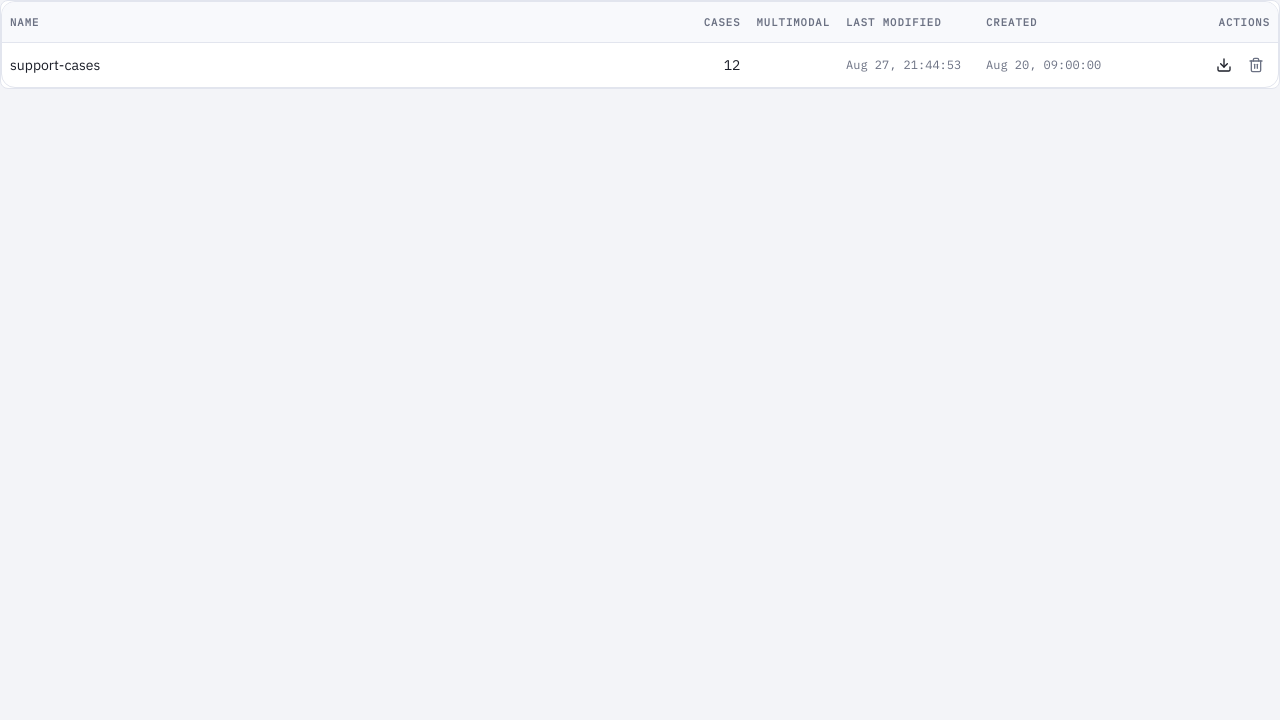
Test case: DatasetTable › does not navigate when the delete action is used
Click the button titled "Delete dataset": (1256, 64) left=1242, top=50, right=1270, bottom=78
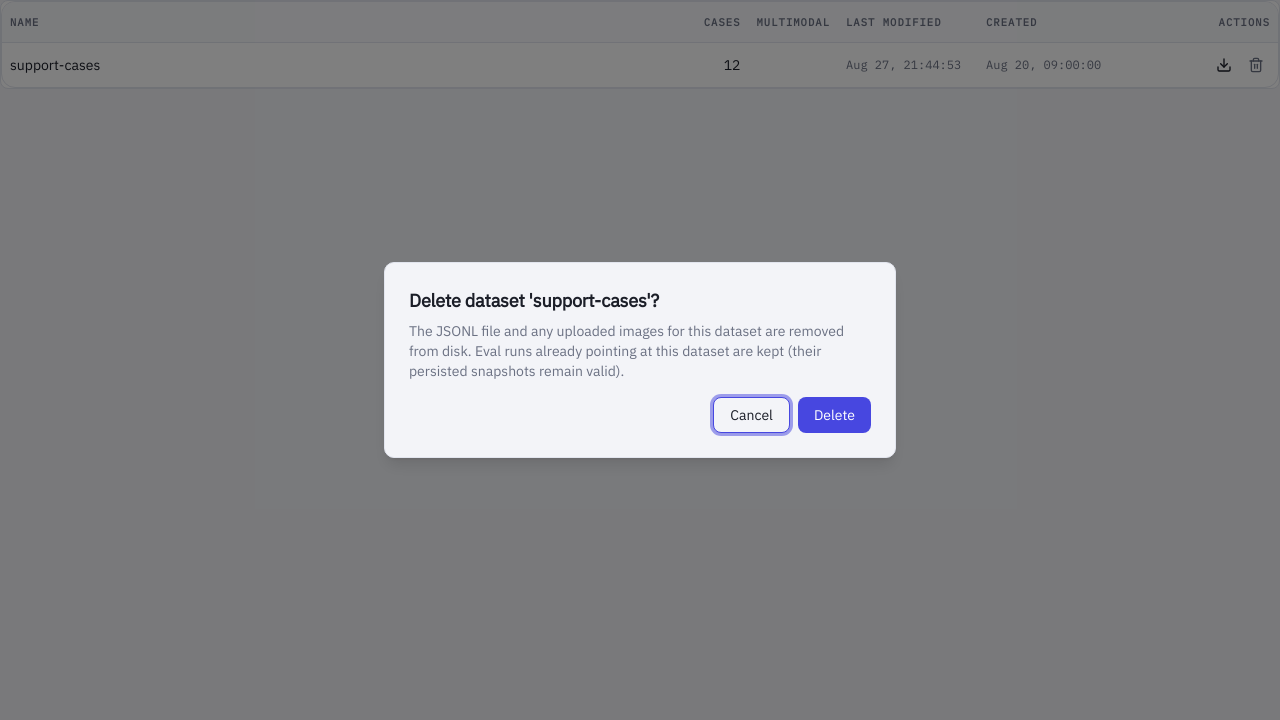
Check: the heading "Delete dataset 'support-cases'?" is shown, box left=409, top=287, right=659, bottom=315
